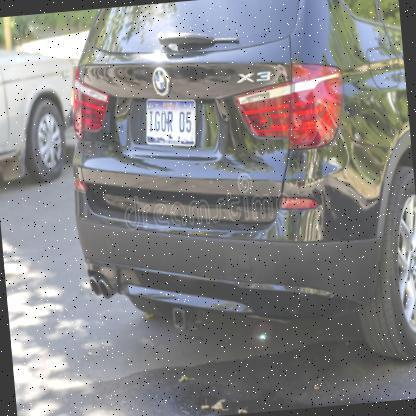License-Plate: (133, 80, 213, 162)
